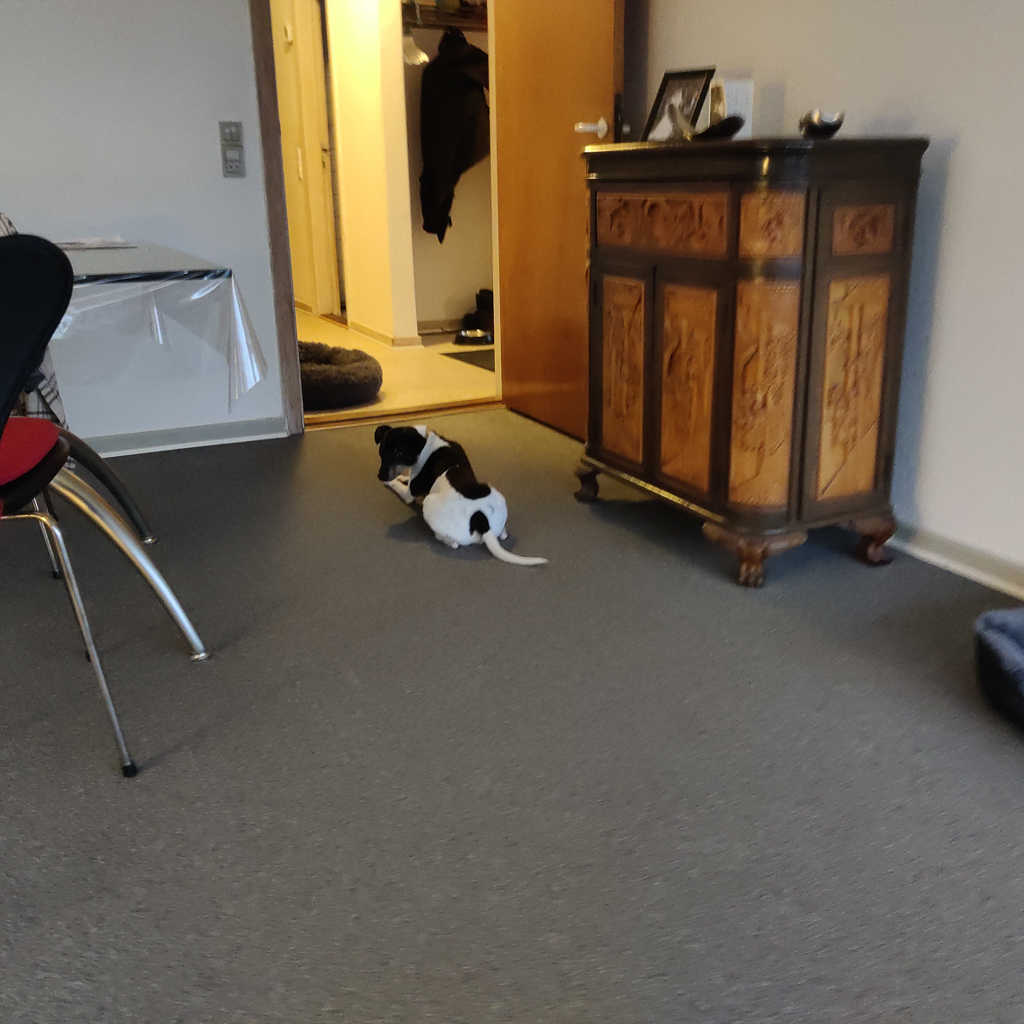Dog: (367, 421, 564, 576)
